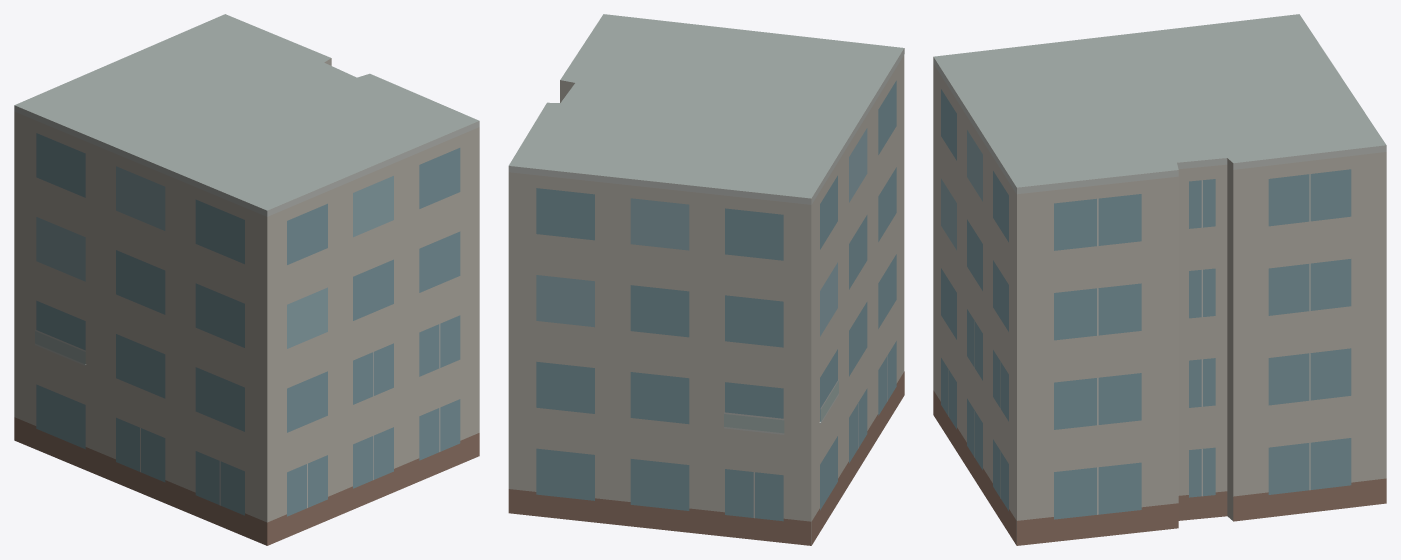
The model's file is survey-upis-32968820.glb.
3 renders of one model, left to right at view 1: azimuth 30°, elevation 25°; view 2: azimuth 150°, elevation 25°; view 3: azimuth 270°, elevation 25°, orthographic. The views are drawn at different scales.
Visible parts, largest first — view 1: survey-upis-32968820.tmp; view 2: survey-upis-32968820.tmp; view 3: survey-upis-32968820.tmp.
Boxes of the visible parts, left/top/right/bottom form: survey-upis-32968820.tmp: left=14, top=14, right=479, bottom=545; survey-upis-32968820.tmp: left=508, top=14, right=904, bottom=545; survey-upis-32968820.tmp: left=933, top=14, right=1386, bottom=545.
Size of the model in its own units: 13.73 by 13.2 by 15.15.
